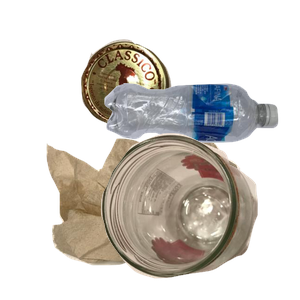glass: (98, 131, 300, 300)
metal: (78, 37, 243, 163)
plastic: (102, 81, 300, 216)
trash: (44, 136, 277, 300)
